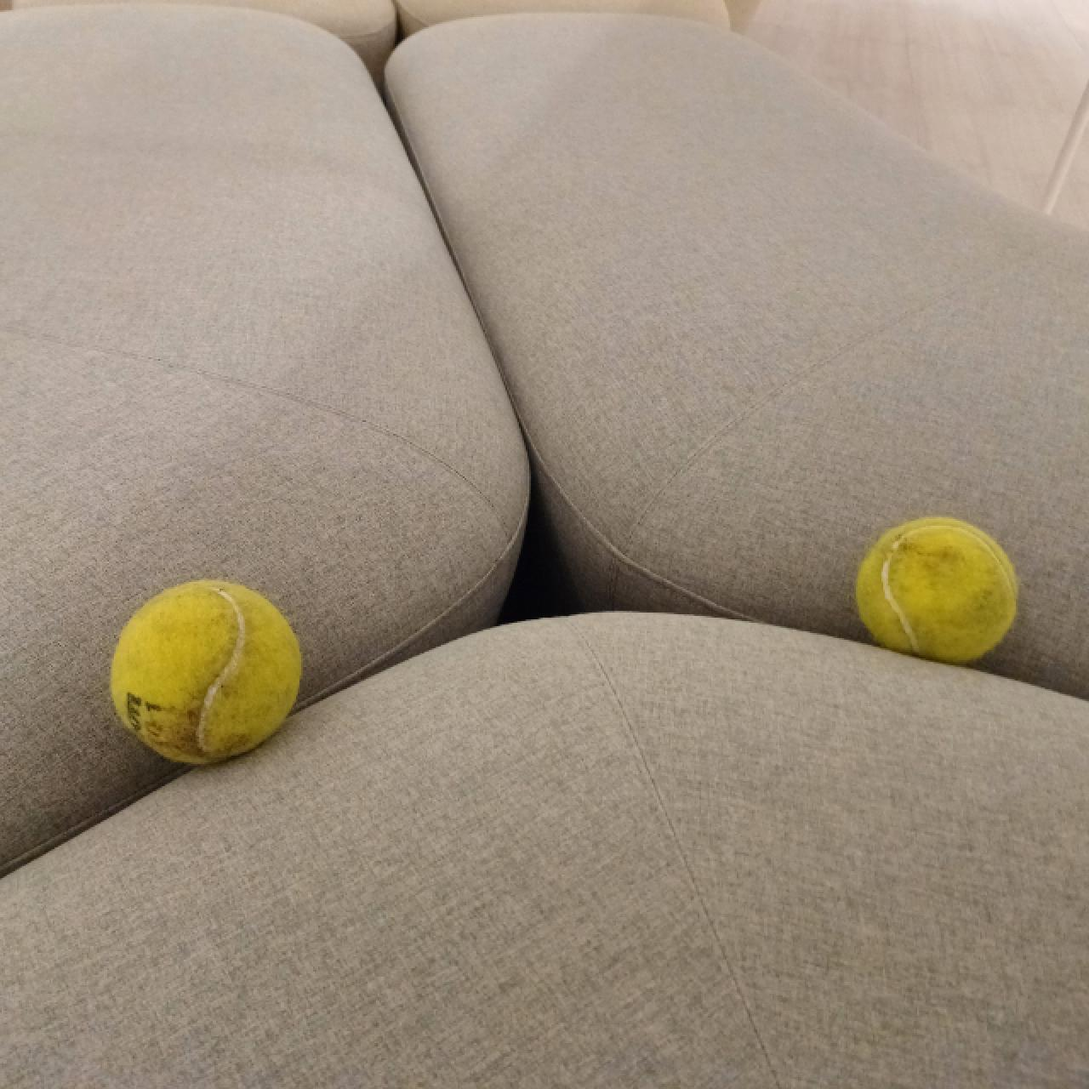tennis-ball: (108, 579, 309, 767)
